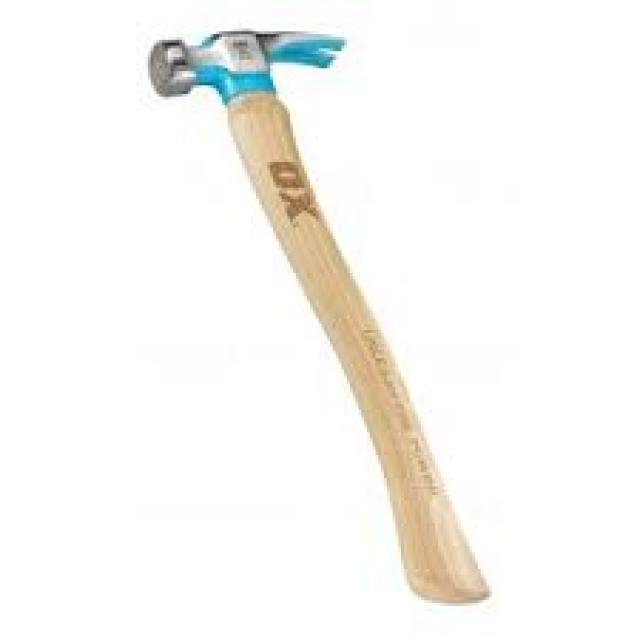hammer: (110, 11, 434, 482)
